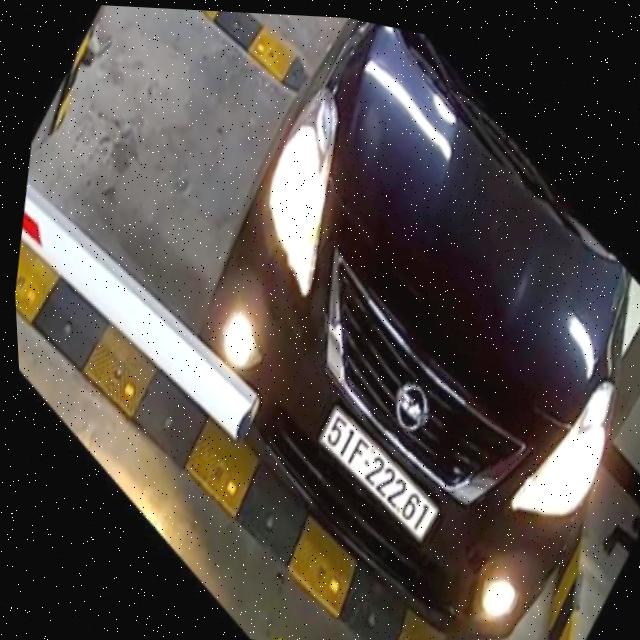car: (139, 7, 640, 640)
plate: (300, 399, 456, 552)
